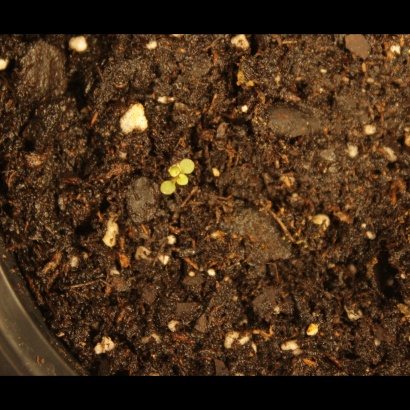leaf: (180, 151, 203, 174), (153, 181, 176, 204), (178, 175, 201, 198), (158, 157, 181, 180)
